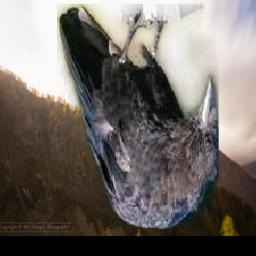Crow: (57, 4, 219, 229)
